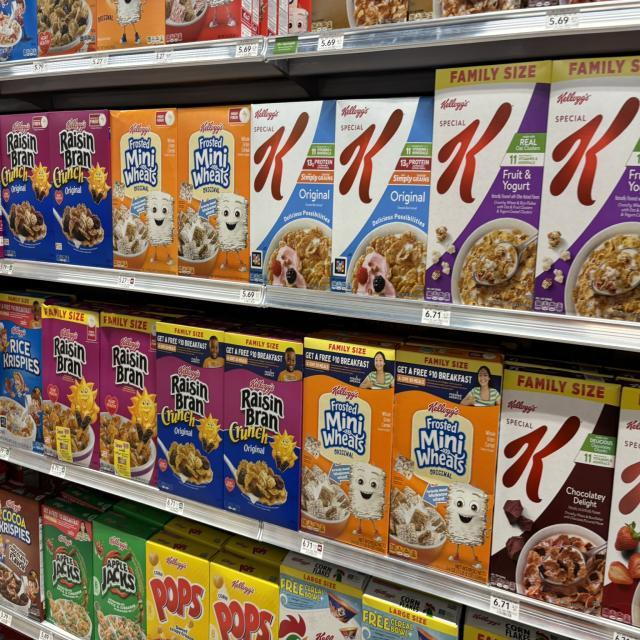Cereal: (490, 368, 621, 615), (425, 62, 551, 310), (534, 57, 640, 322), (389, 342, 504, 583), (300, 330, 399, 555), (331, 97, 434, 299), (250, 101, 336, 290), (224, 327, 304, 530), (156, 318, 228, 508), (178, 107, 250, 282), (110, 108, 178, 274), (48, 110, 112, 268), (100, 312, 158, 484), (42, 302, 100, 469), (601, 387, 640, 627), (92, 512, 159, 640), (0, 113, 55, 262), (42, 498, 99, 638), (279, 552, 369, 640), (0, 292, 49, 452), (146, 532, 218, 639), (0, 480, 50, 621), (361, 578, 462, 640), (209, 552, 279, 640), (165, 0, 259, 43), (96, 0, 165, 49), (37, 0, 96, 57), (464, 607, 564, 640), (0, 0, 38, 61)
